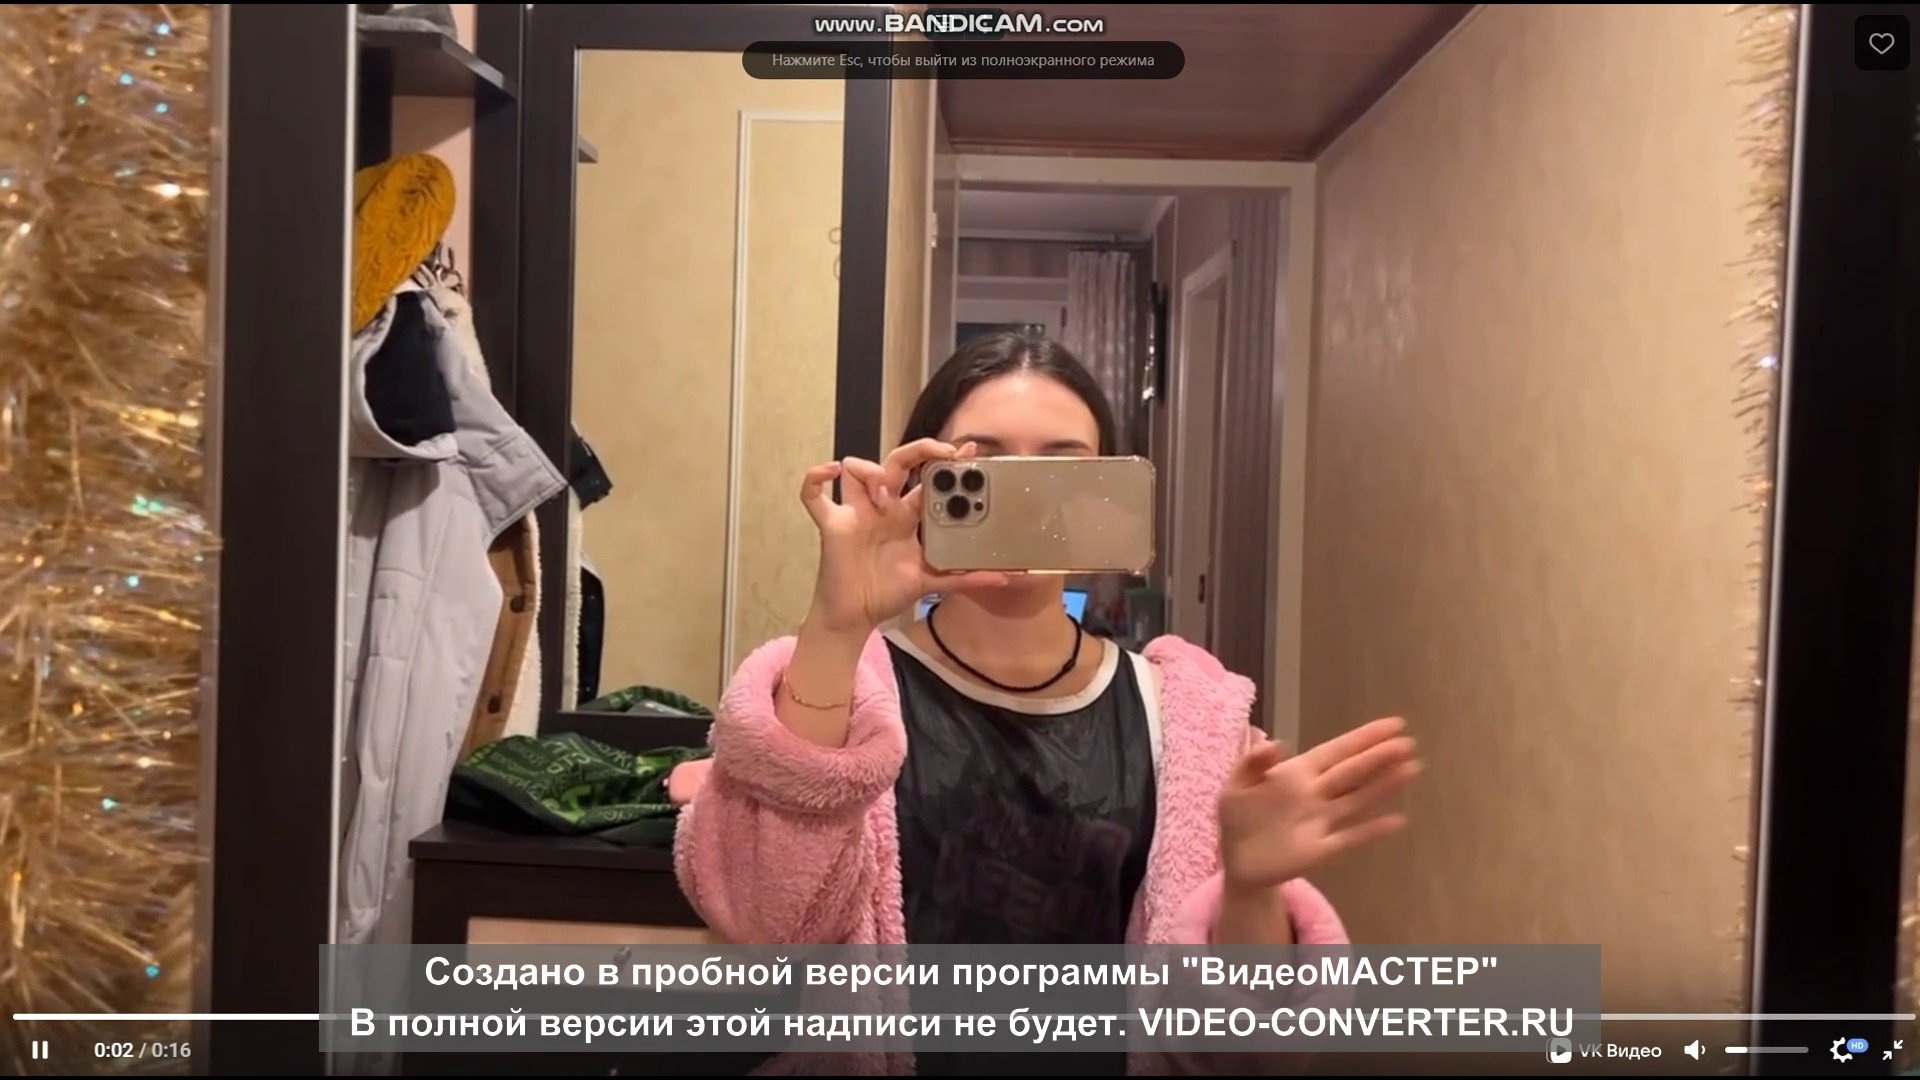Ладонь: (1216, 715, 1416, 885)
